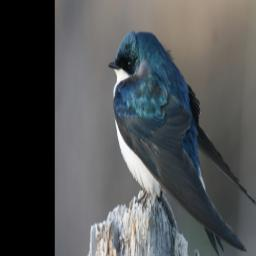Swallow: (109, 30, 256, 256)
